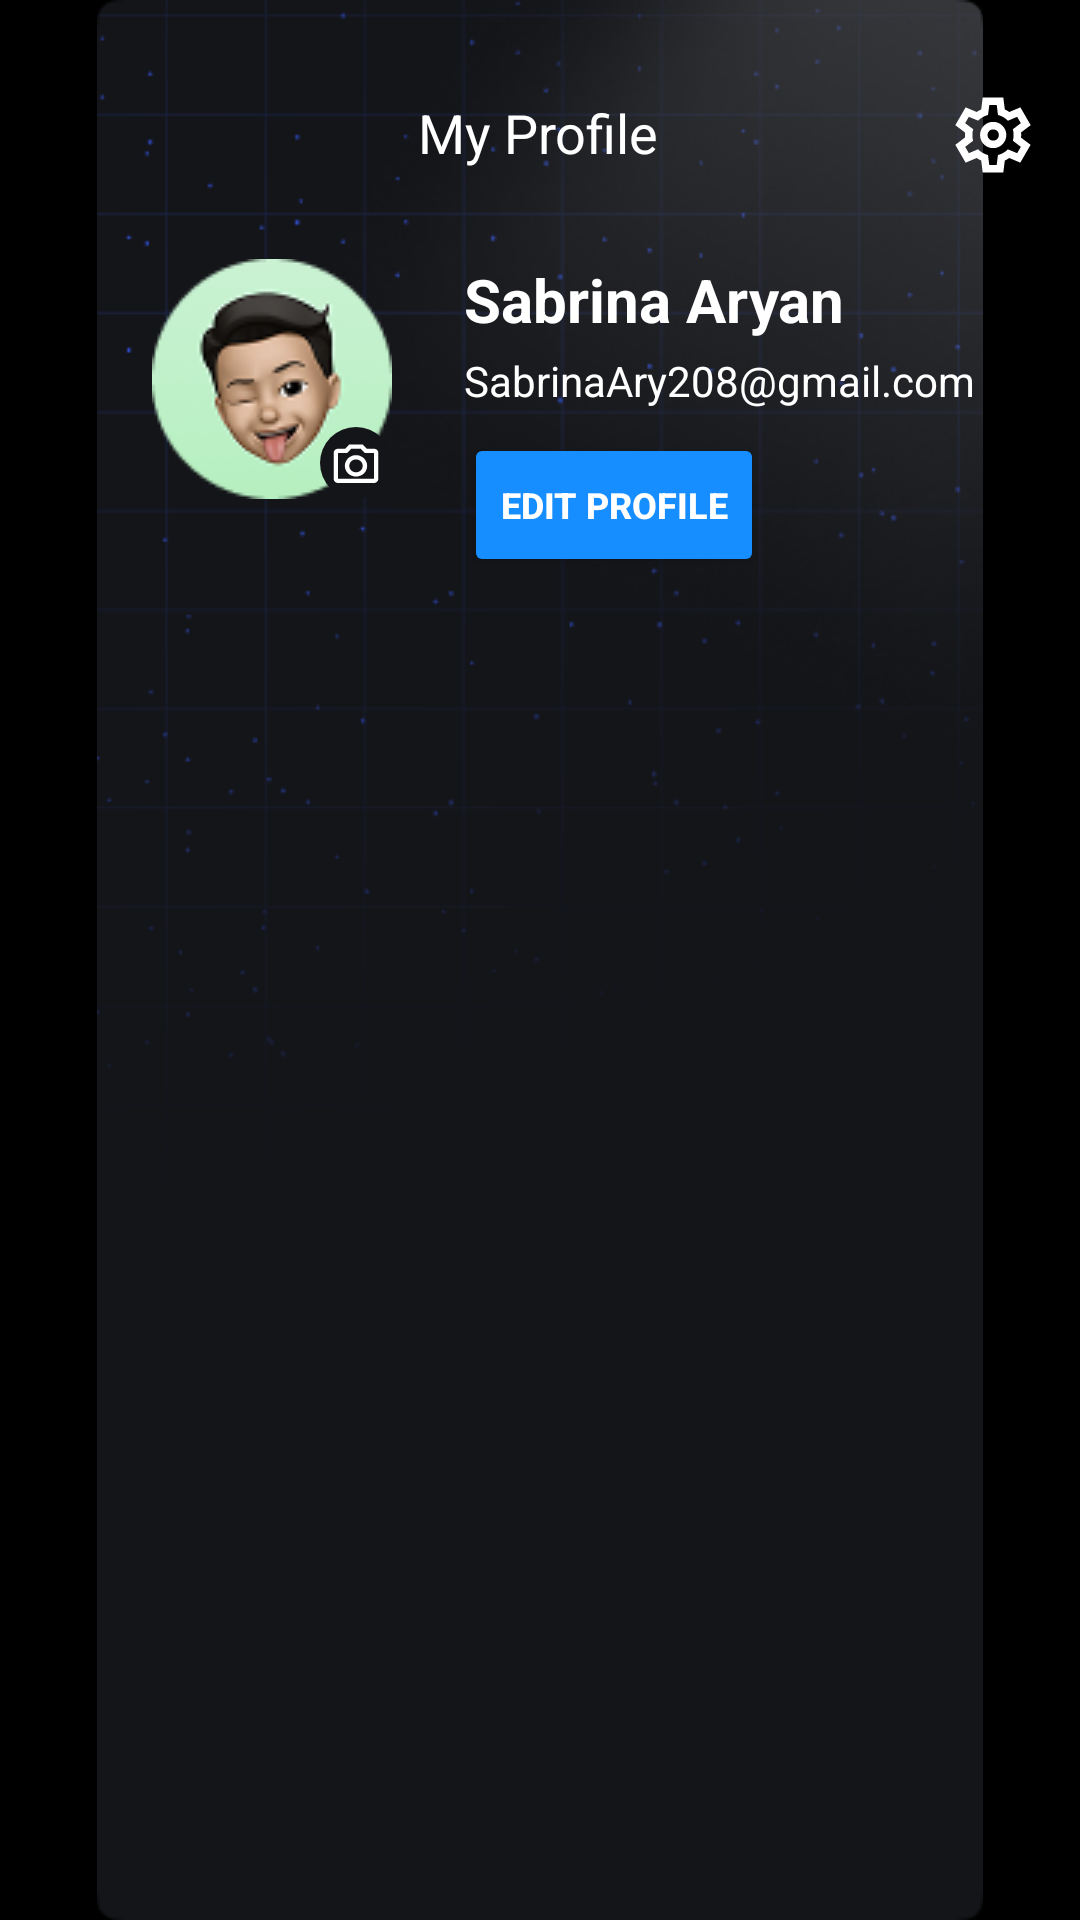

Point at icon controls on the screen. Image size 1080 × 1920, points as (x=x, y=y).
setting: (x=993, y=135)
